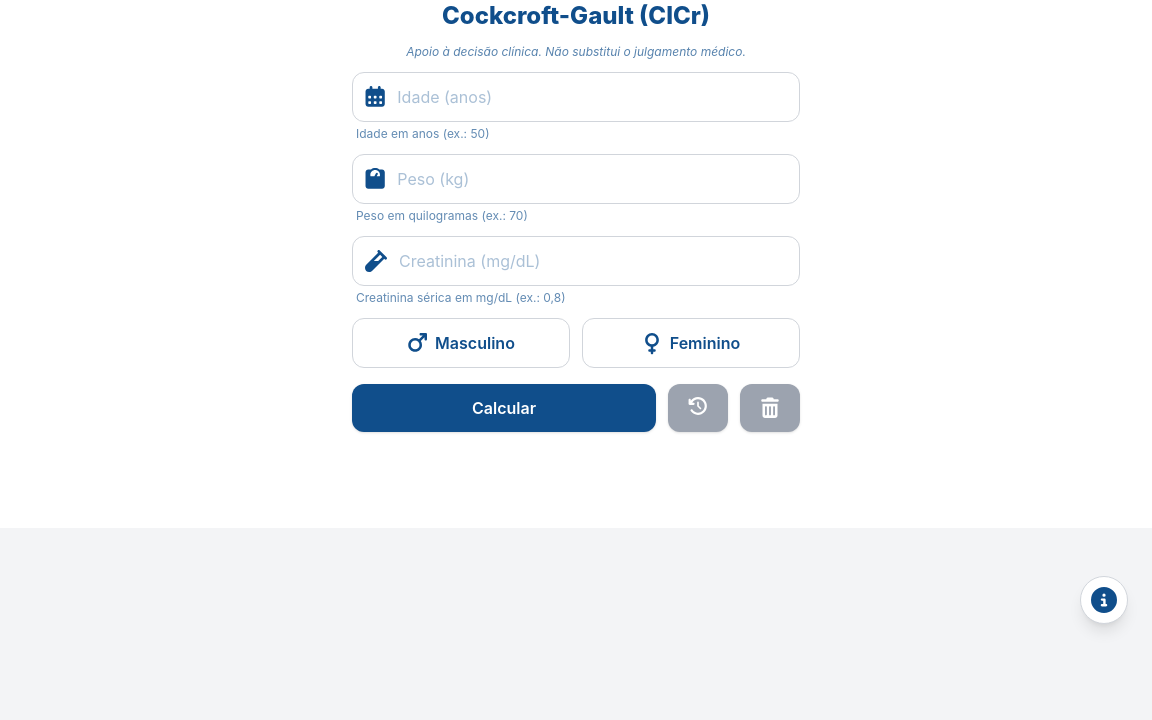
Test: Cockcroft-Gault (interface) › campos vazios: mensagem do original e campos marcados; nada é guardado
Step 1. Click the button "Calcular" → (504, 408), box [352, 384, 656, 432]
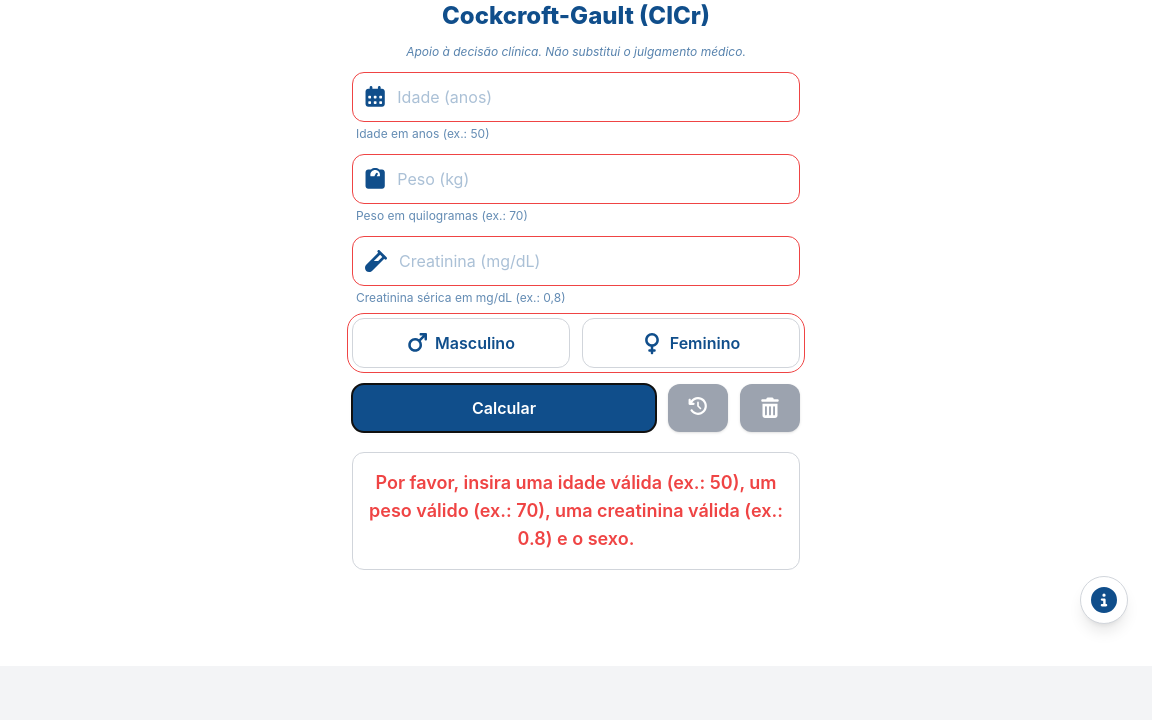
Result: the message shows "Por favor, insira uma idade válida (ex.: 50), um peso válido (ex.: 70), uma creatinina válida (ex.: 0.8) e o sexo." at [369, 472, 783, 549]
